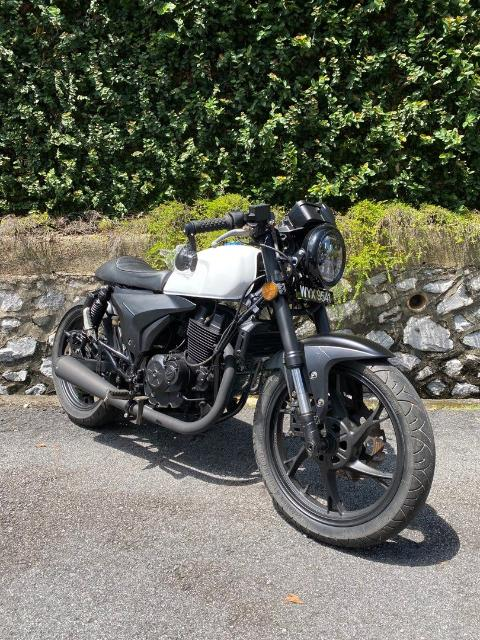License_Plate: (296, 285, 335, 306)
motorcycle: (51, 200, 437, 549)
